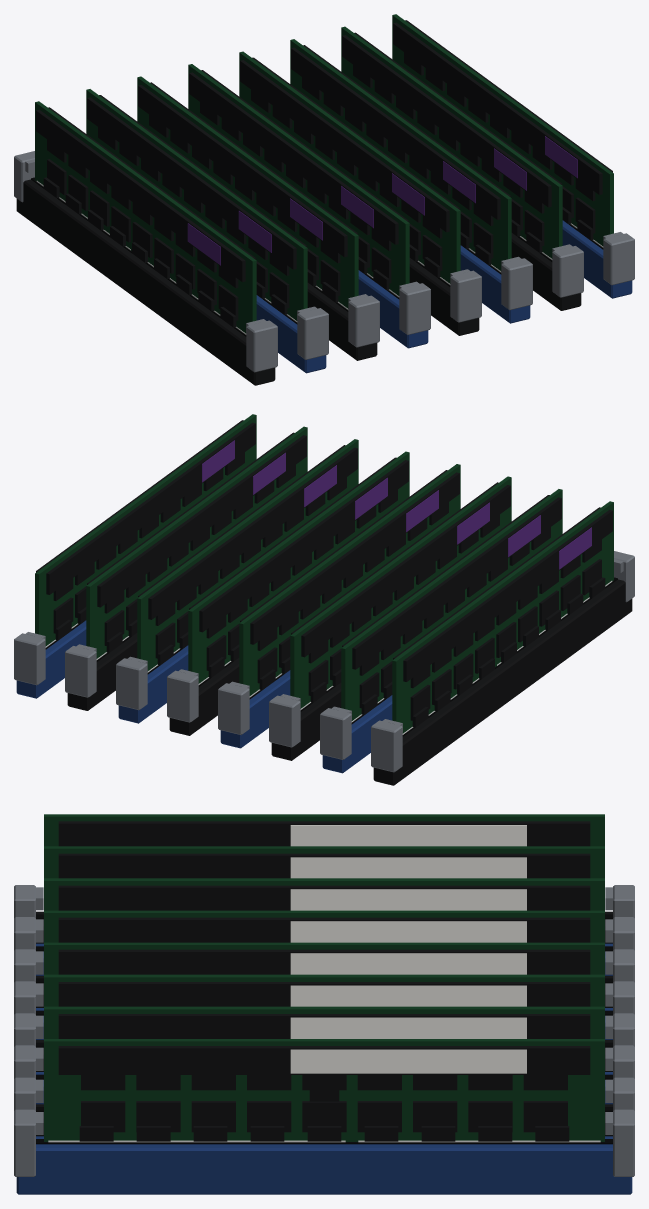
The model's file is hwm_ram_ddr5_256gb.glb.
3 renders of one model, top to bottom at view 1: azimuth 30°, elevation 25°; view 2: azimuth 150°, elevation 25°; view 3: azimuth 270°, elevation 25°, orthographic. The views are drawn at different scales.
Parts seen in each view (by area): view 1: Slots, Stick_0, Stick_7, Stick_2, Stick_6, Stick_3, Stick_5, Stick_4, Stick_1, Latch_5_1, Latch_0_1, Latch_1_1 (+6 smaller); view 2: Slots, Stick_0, Stick_7, Stick_2, Stick_6, Stick_3, Stick_5, Stick_4, Stick_1, Latch_5_0, Latch_0_0, Latch_1_0 (+6 smaller); view 3: Stick_7, Slots, Stick_0, Stick_1, Stick_2, Stick_3, Stick_4, Stick_5, Stick_6, Latch_7_0, Latch_7_1, Latch_1_0 (+13 smaller).
Boxes of the visible parts, x1,y1,x2,y2 form: Slots: (16,177,632,385); Stick_0: (35,101,256,334); Stick_7: (392,14,613,247); Stick_2: (137,76,358,309); Stick_6: (341,26,562,259); Stick_3: (188,64,409,297); Stick_5: (290,39,511,272); Stick_4: (239,51,460,284); Stick_1: (86,89,307,322); Latch_5_1: (501,256,532,310); Latch_0_1: (246,319,277,372); Latch_1_1: (297,306,328,359); Slots: (16,577,632,785); Stick_0: (392,501,613,734); Stick_7: (35,414,256,647); Stick_2: (290,476,511,709); Stick_6: (86,426,307,659); Stick_3: (239,464,460,697); Stick_5: (137,439,358,672); Stick_4: (188,451,409,684); Stick_1: (341,489,562,722); Latch_5_0: (116,656,147,710); Latch_0_0: (371,719,402,772); Latch_1_0: (320,706,351,759); Stick_7: (44,1039,604,1142); Slots: (16,911,632,1194); Stick_0: (44,814,604,846); Stick_1: (44,846,604,878); Stick_2: (44,878,604,910); Stick_3: (44,910,604,942); Stick_4: (44,942,604,974); Stick_5: (44,974,604,1006); Stick_6: (44,1006,604,1038); Latch_7_0: (605,1109,634,1176); Latch_7_1: (14,1109,43,1176); Latch_1_0: (605,917,634,950).
Size of the model in its own units: 0.1346 by 0.0389 by 0.1472.
